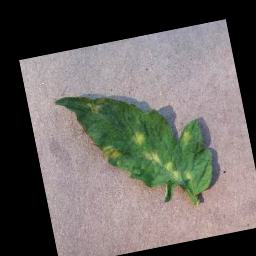Leaf_Mold: (142, 145, 182, 187), (174, 126, 194, 150), (100, 142, 121, 163), (129, 129, 147, 146)
